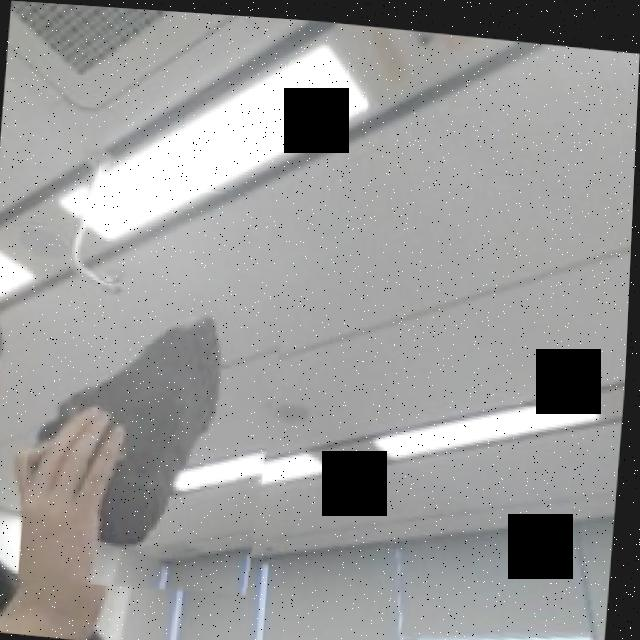shoe: (22, 275, 290, 601)
